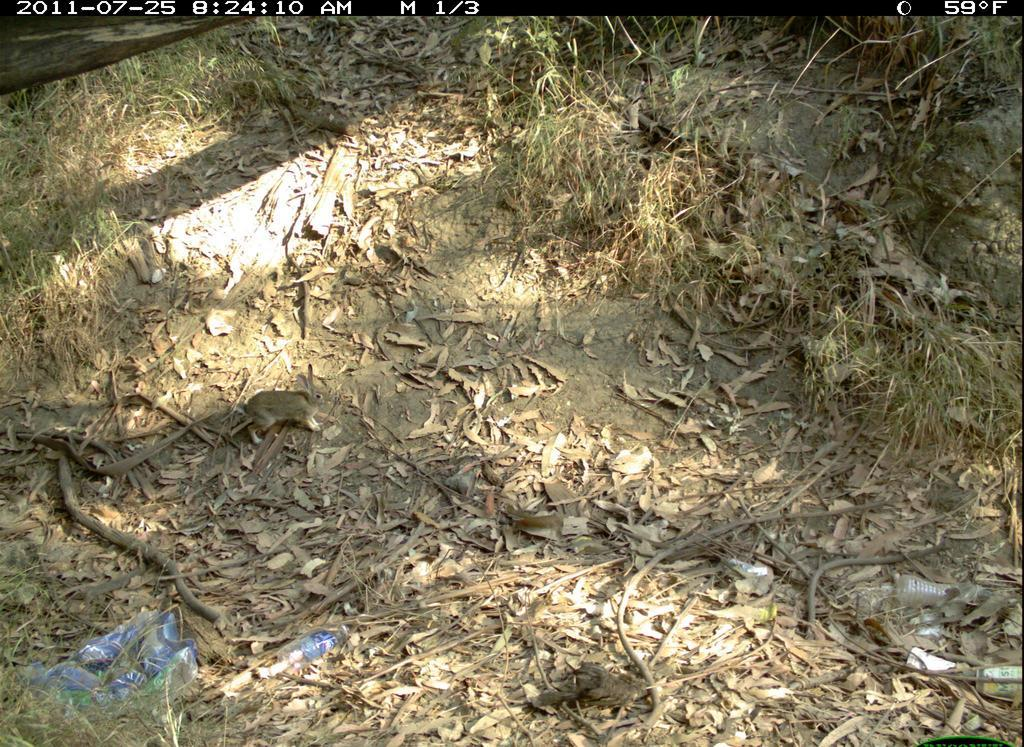rabbit: (242, 362, 344, 445)
